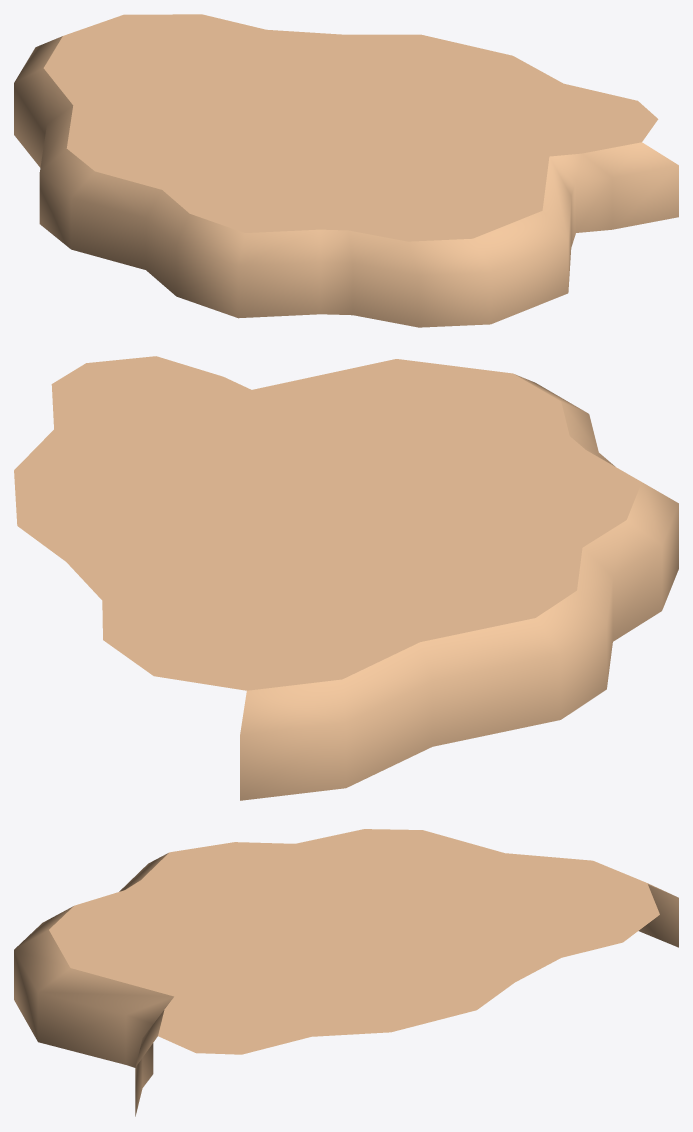
The picture shows the model from 3 angles, top to bottom: view 1: azimuth 30°, elevation 25°; view 2: azimuth 150°, elevation 25°; view 3: azimuth 270°, elevation 25°; orthographic projection. The views are drawn at different scales.
Parts seen in each view (by area): view 1: patch-sand.006; view 2: patch-sand.006; view 3: patch-sand.006.
Boxes of the visible parts, x1=… form: patch-sand.006: x1=14, y1=14, x2=678, y2=327; patch-sand.006: x1=14, y1=356, x2=678, y2=800; patch-sand.006: x1=14, y1=829, x2=678, y2=1116.
Bounding box in the file's own units: 21.13 × 2.91 × 25.07.
